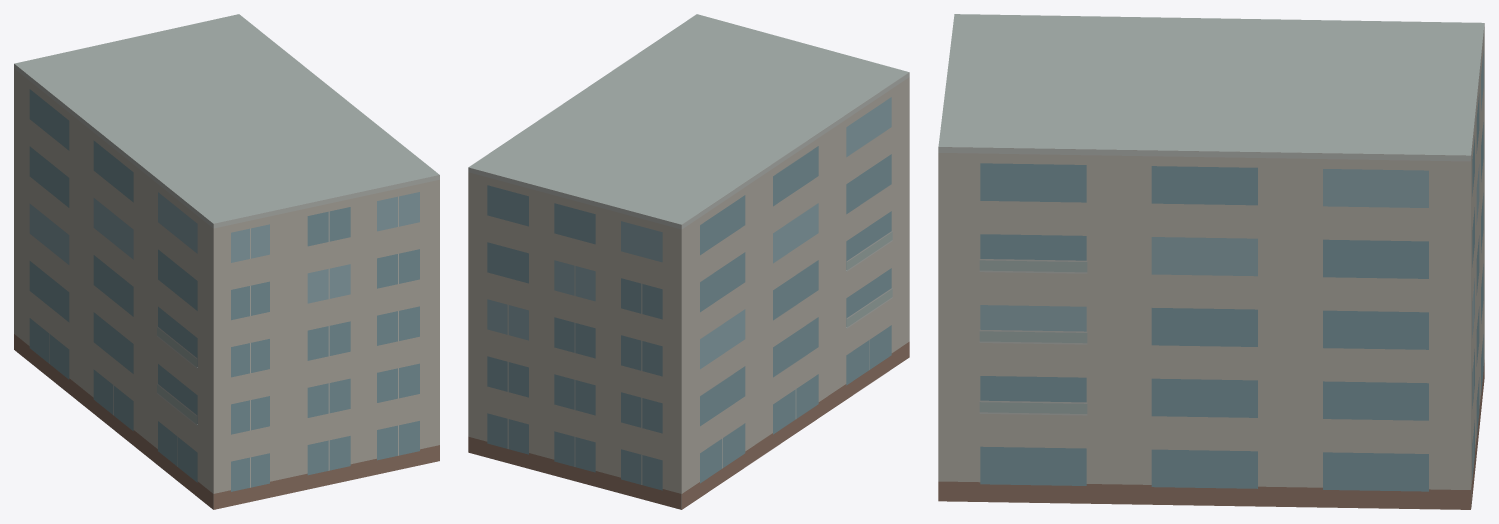
File: survey-upis-32928334.glb
3 views of the same model, side by side, from view 1: azimuth 30°, elevation 25°; view 2: azimuth 150°, elevation 25°; view 3: azimuth 270°, elevation 25° (orthographic). The views are drawn at different scales.
Parts seen in each view (by area): view 1: survey-upis-32928334.tmp; view 2: survey-upis-32928334.tmp; view 3: survey-upis-32928334.tmp.
Boxes of the visible parts, x1,y1,x2,y2 form: survey-upis-32928334.tmp: (14, 14, 439, 509); survey-upis-32928334.tmp: (468, 14, 909, 509); survey-upis-32928334.tmp: (938, 14, 1484, 509).
Size of the model in its own units: 12.47 by 14.55 by 20.33.
